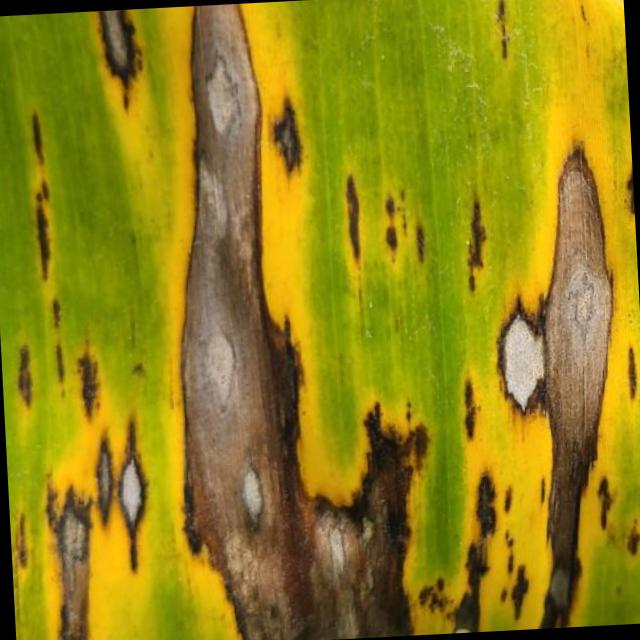Banana_Yellow_Sigatoka: (155, 0, 630, 640), (2, 102, 121, 430), (6, 440, 182, 640), (76, 8, 166, 141)
